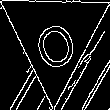O_NW: (27, 5, 82, 70)
